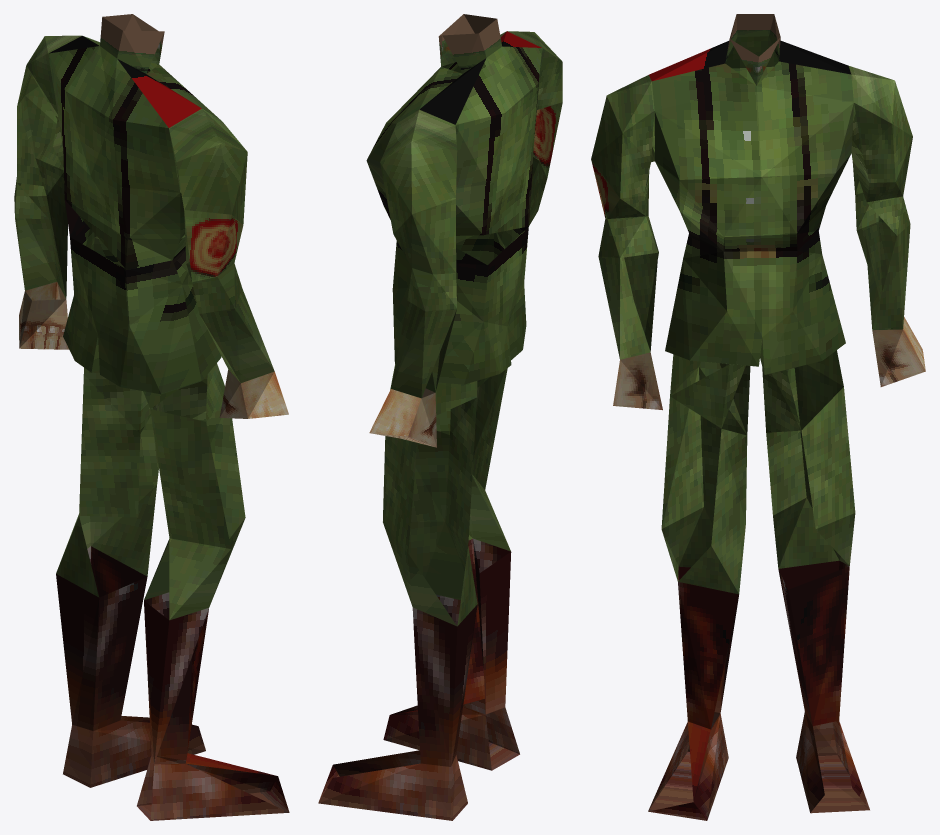
The model's file is primary_019.glb.
3 renders of one model, left to right at view 1: azimuth 30°, elevation 25°; view 2: azimuth 150°, elevation 25°; view 3: azimuth 270°, elevation 25°, orthographic. The views are drawn at different scales.
Parts seen in each view (by area): view 1: Object; view 2: Object; view 3: Object.
Part boxes in pixels (<box>): Object: <box>14,14,289,820</box>; Object: <box>318,14,562,820</box>; Object: <box>591,14,925,820</box>.
Bounding box in the file's own units: 0.4064 × 1.83 × 0.7437.
64 materials, 64 textured.
